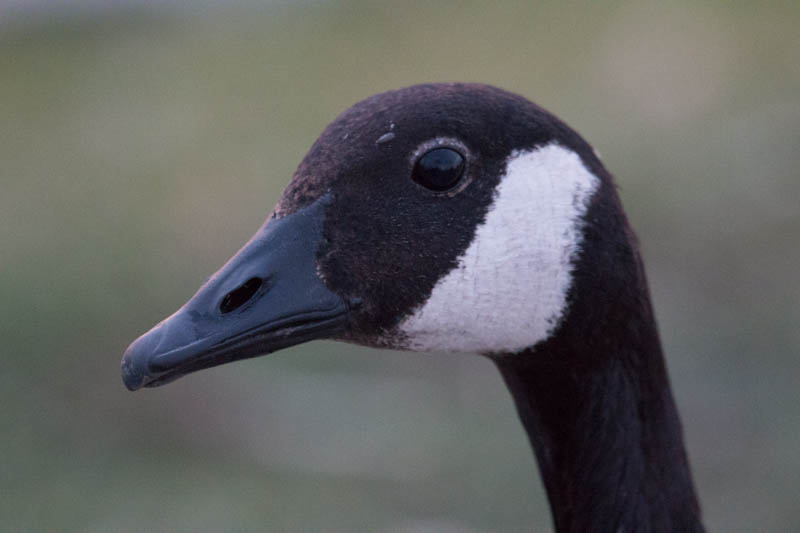goose-head: (122, 82, 641, 391)
